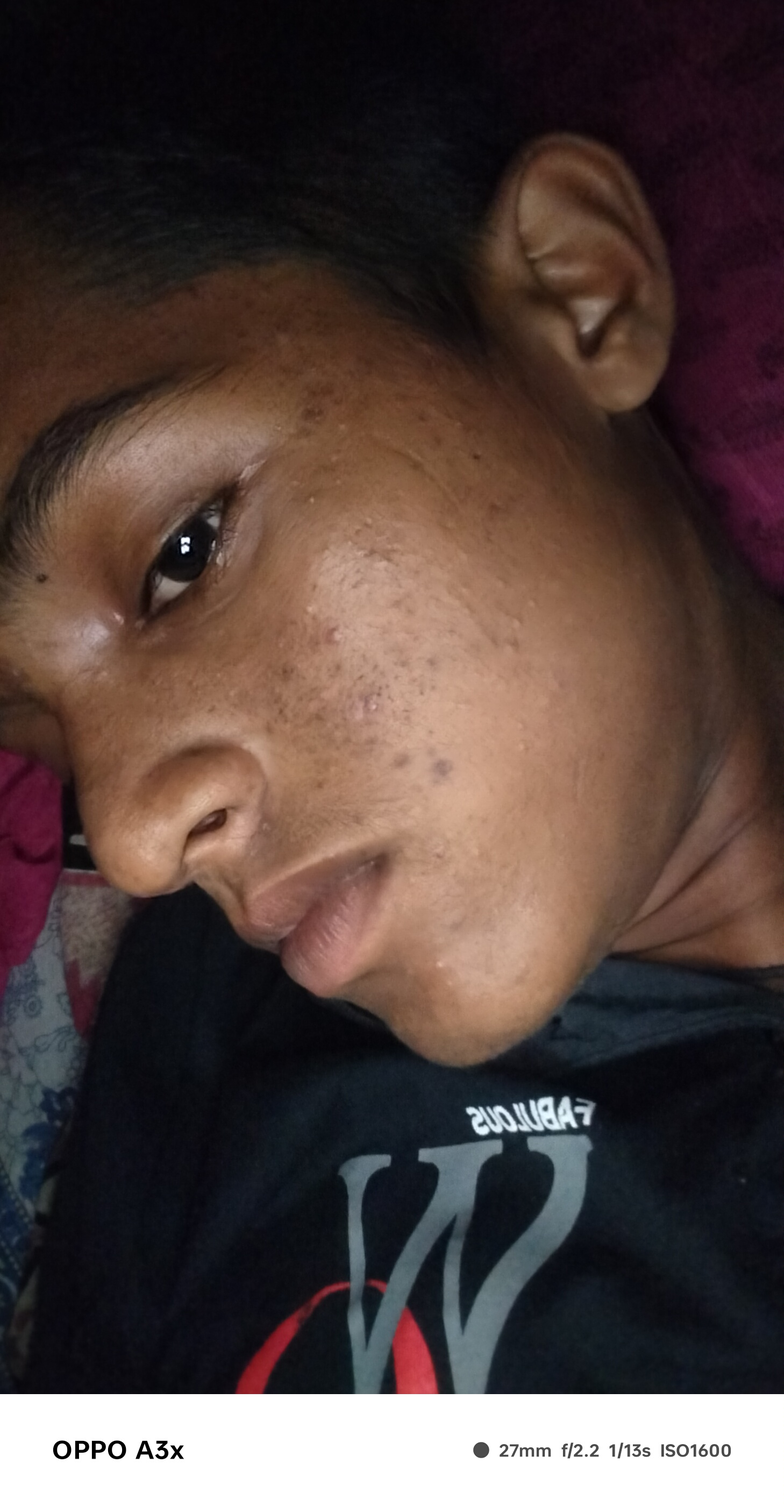closed_comedone: (430, 954, 468, 981), (504, 615, 533, 648), (494, 573, 516, 598), (525, 591, 543, 612), (514, 739, 531, 759), (512, 718, 530, 731)
